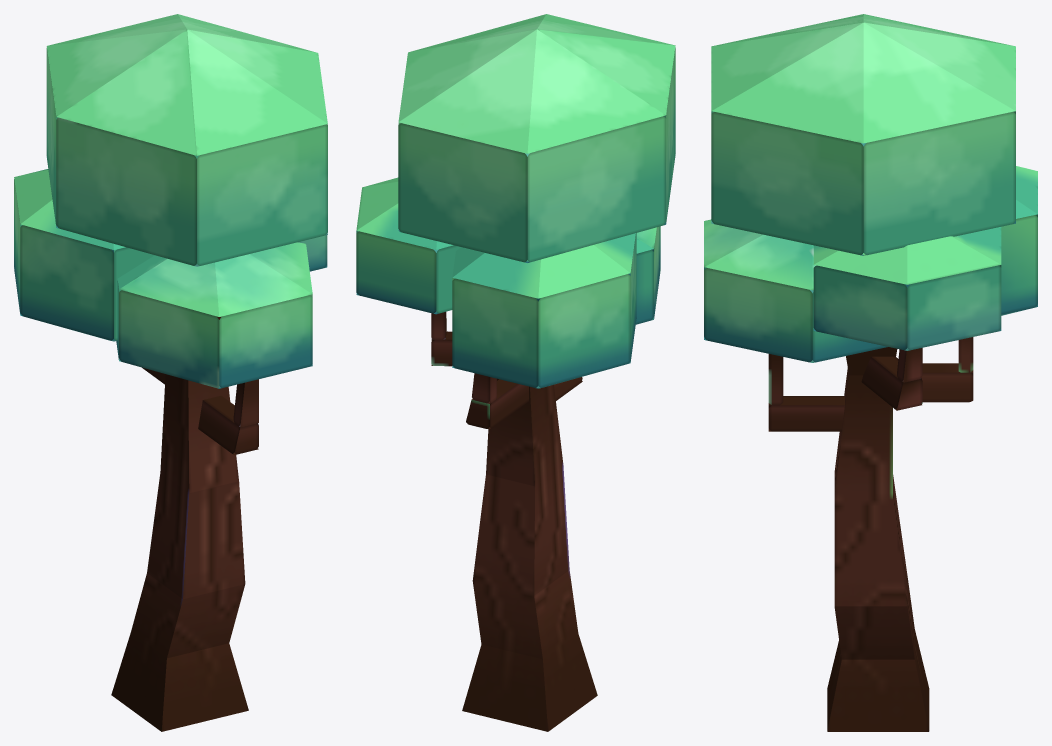
The model's file is Tree_Model.fbx.
3 renders of one model, left to right at view 1: azimuth 30°, elevation 25°; view 2: azimuth 150°, elevation 25°; view 3: azimuth 270°, elevation 25°, orthographic. The views are drawn at different scales.
Parts seen in each view (by area): view 1: Tree; view 2: Tree; view 3: Tree.
Part boxes in pixels (x1,y1,x2,y2): Tree: (14, 14, 327, 731); Tree: (356, 14, 675, 731); Tree: (704, 14, 1037, 731).
Size of the model in its own units: 288 by 650 by 286.
1 material, 1 textured.
